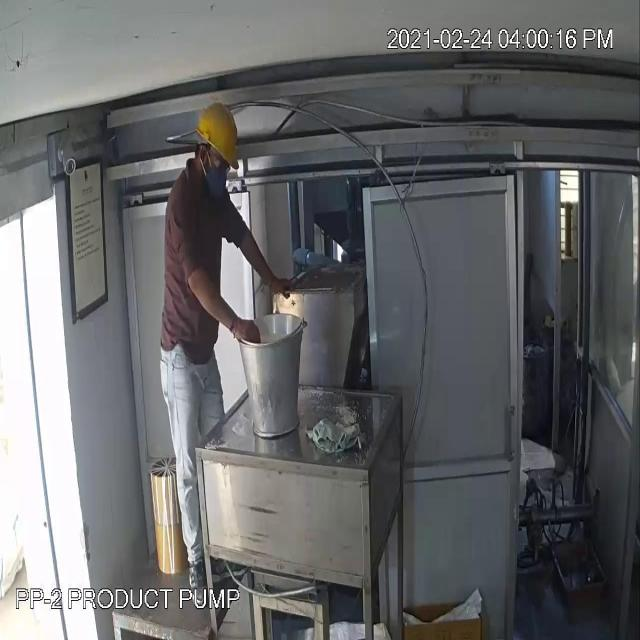helmet: (193, 97, 245, 179)
